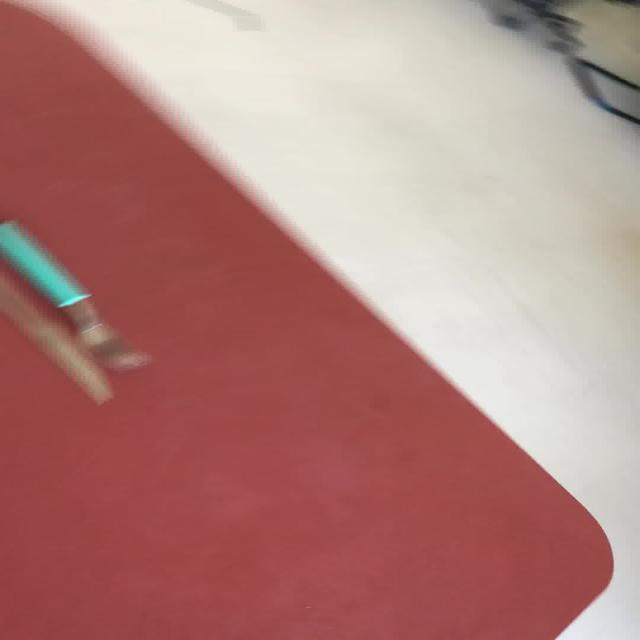fork: (0, 218, 150, 372)
knife fork: (0, 218, 150, 373)
